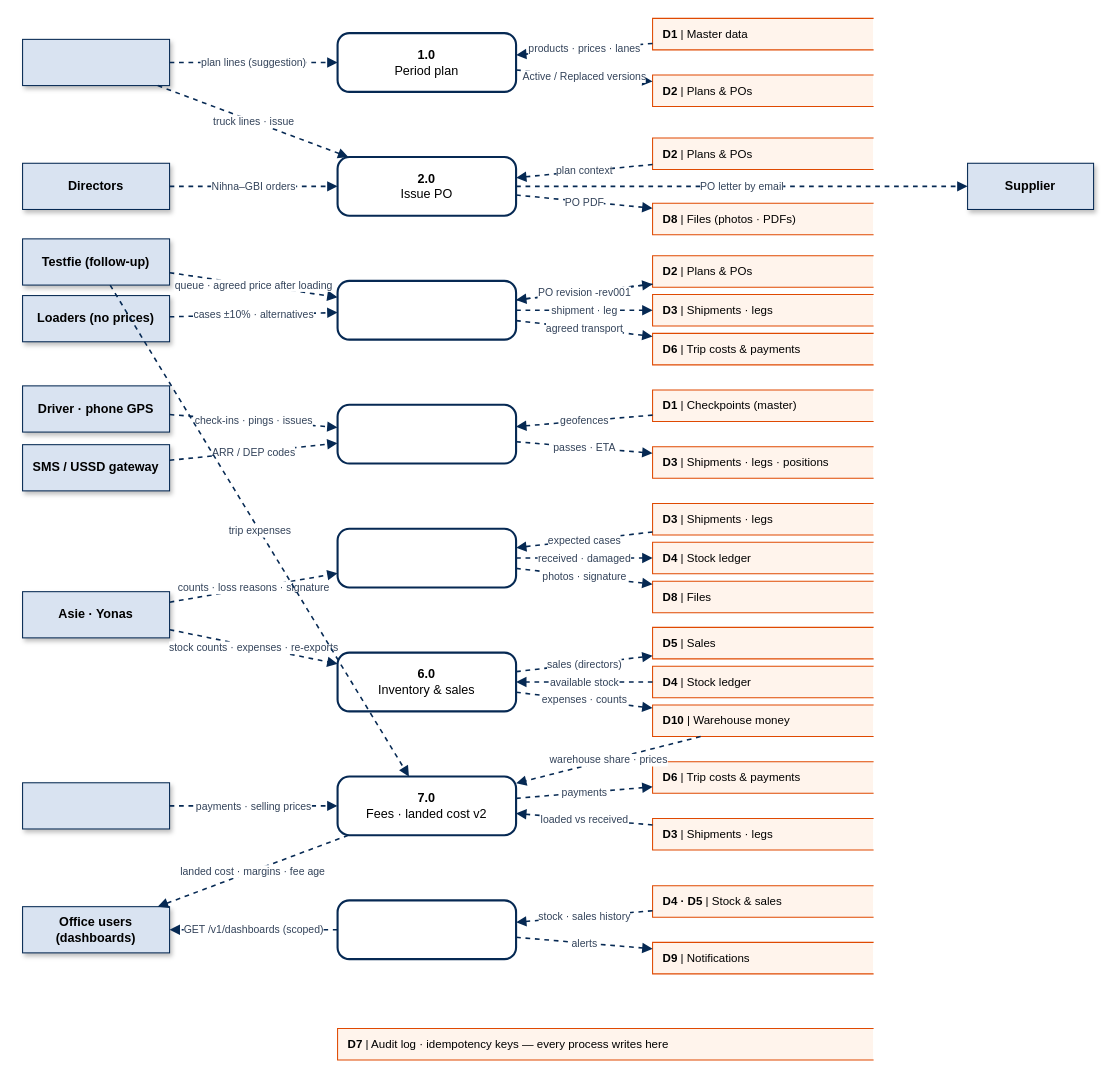
Some shapes in this 1118 by 1078 pixel diagram are drawn without their labels. The centre of each missing label's shape, as x and y in pixels:
3.0 Load & dispatch: the point at 426,309
4.0 Track & monitor: the point at 426,433
5.0 Receive: the point at 426,557
8.0 Dashboards & alerts: the point at 426,929
Directors (money): the point at 96,807
Kabonge (planner): the point at 96,63
